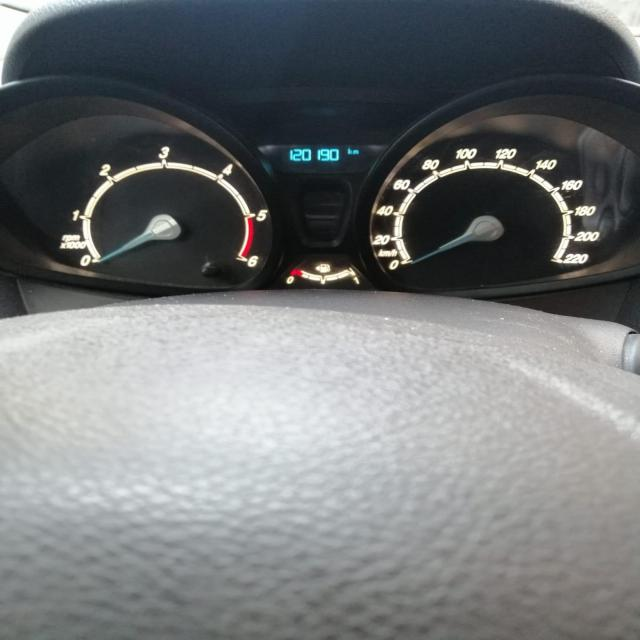odometer: (252, 142, 392, 174)
